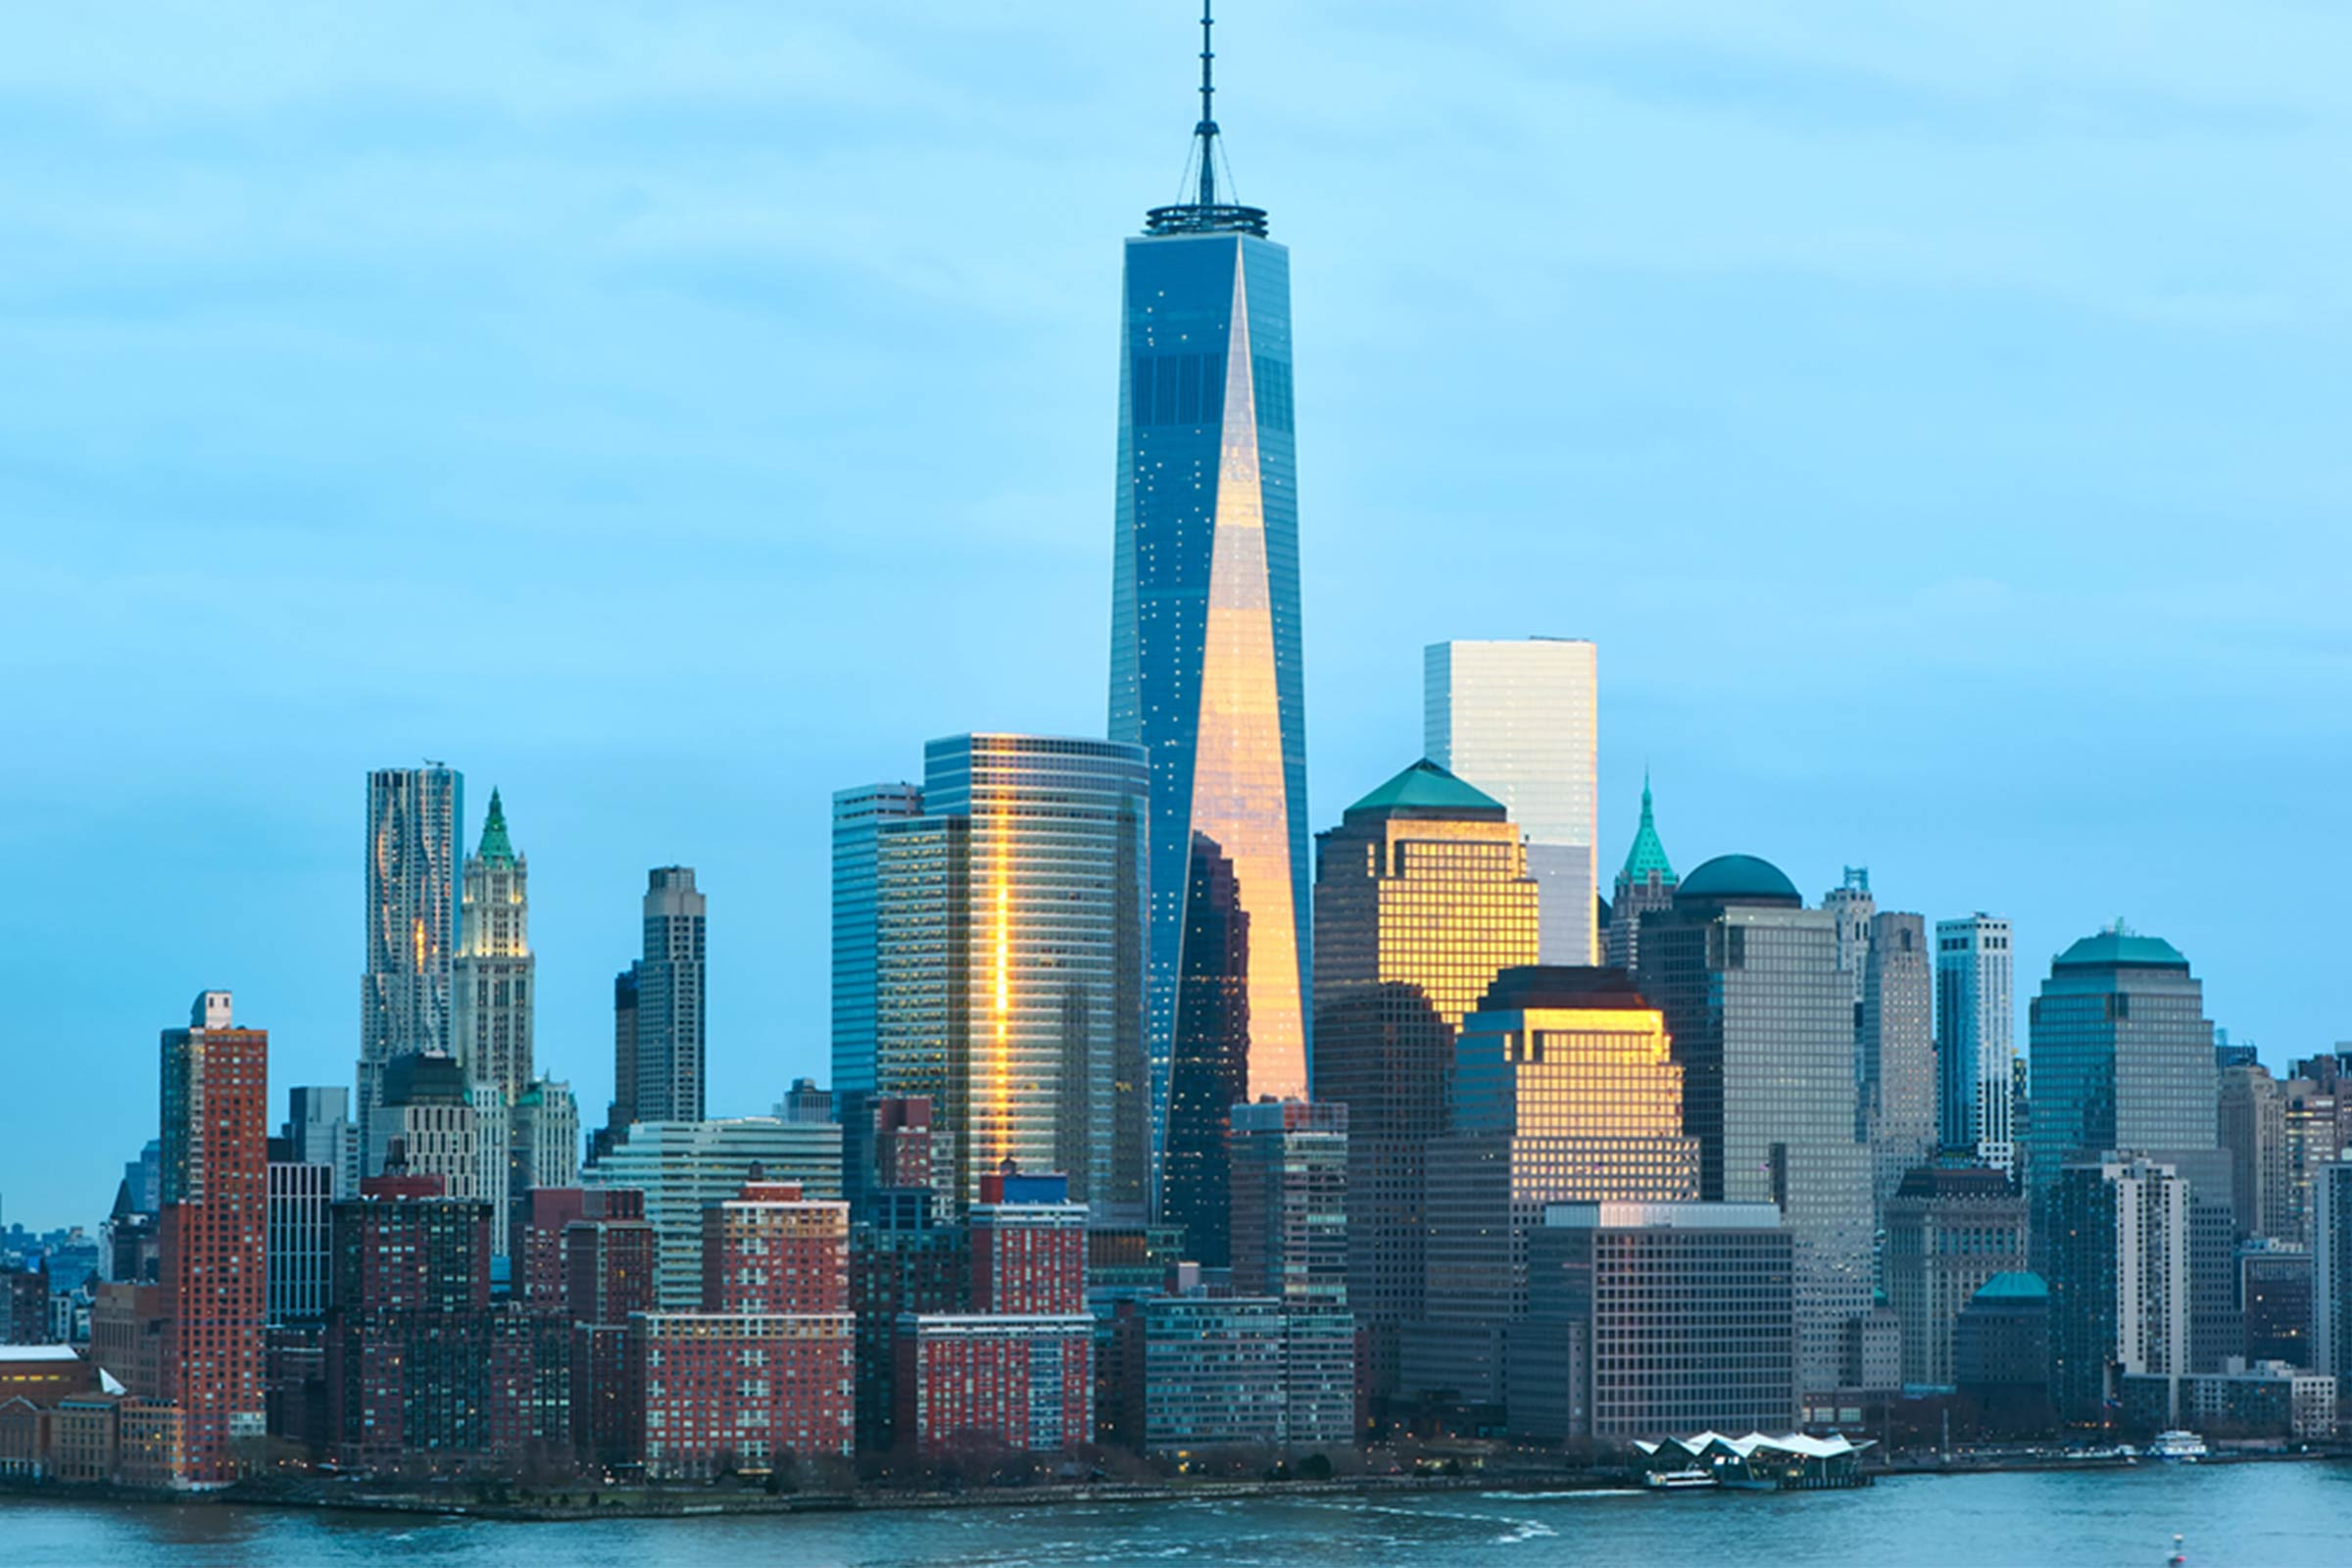wtc: (1109, 19, 1305, 1193)
